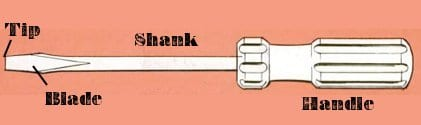screwdriver: (3, 37, 415, 93)
